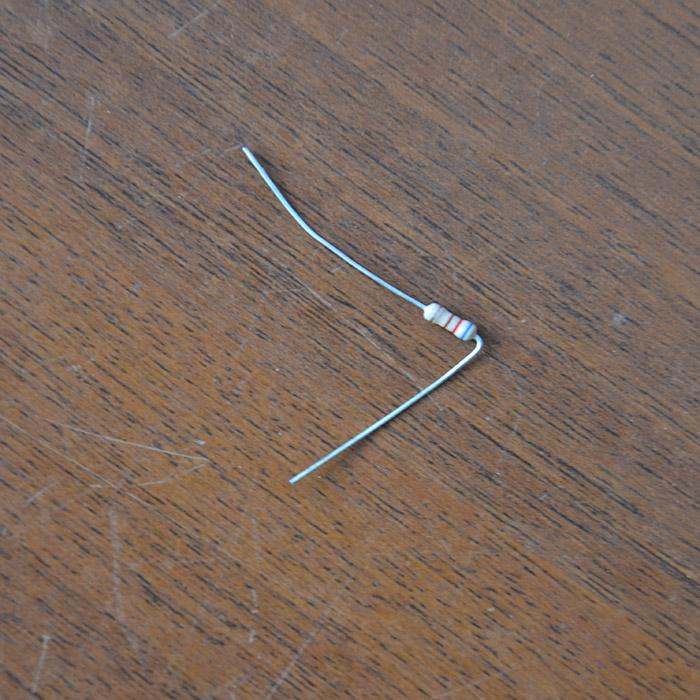resistor: (422, 301, 478, 341)
